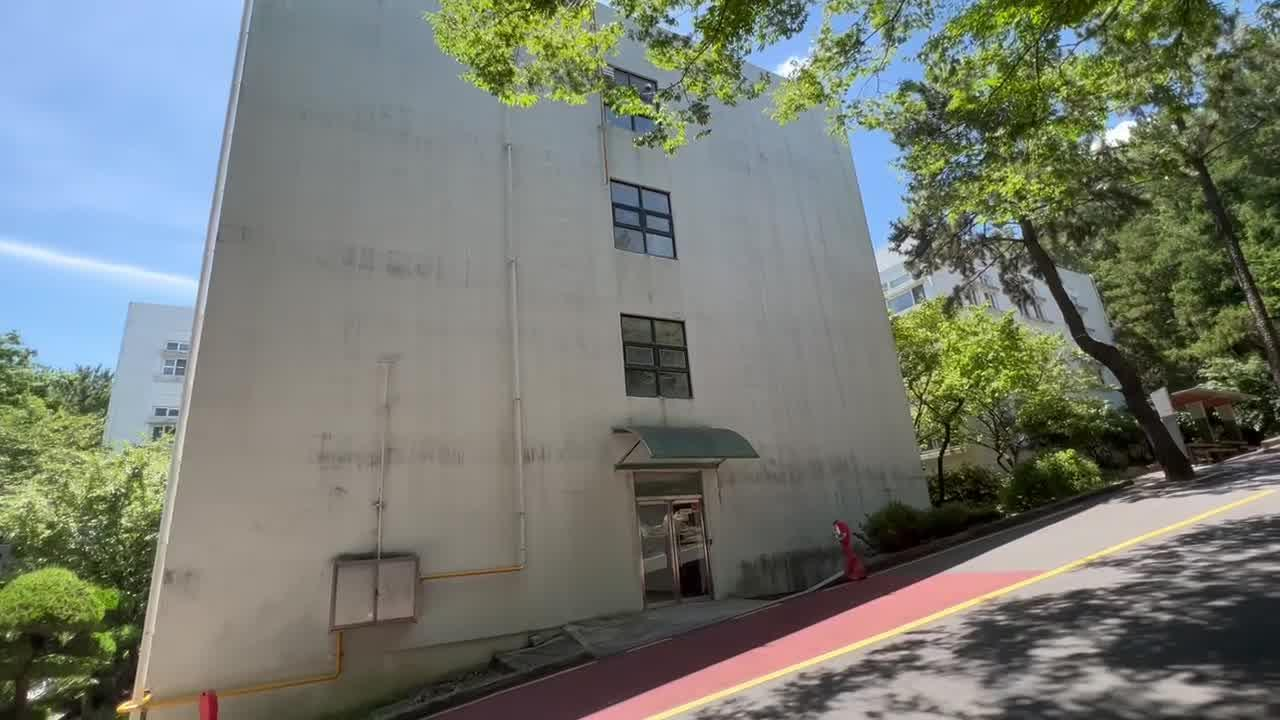building: (142, 99, 946, 604)
